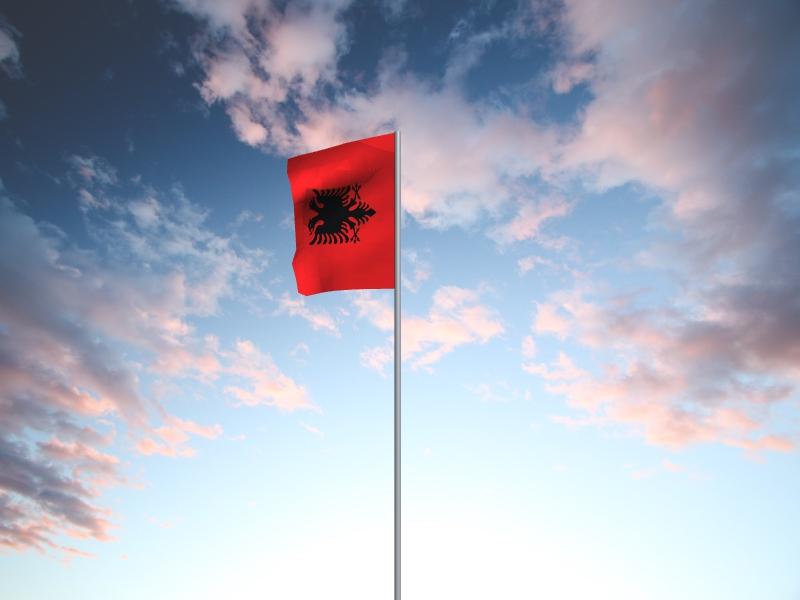al: (286, 134, 395, 297)
